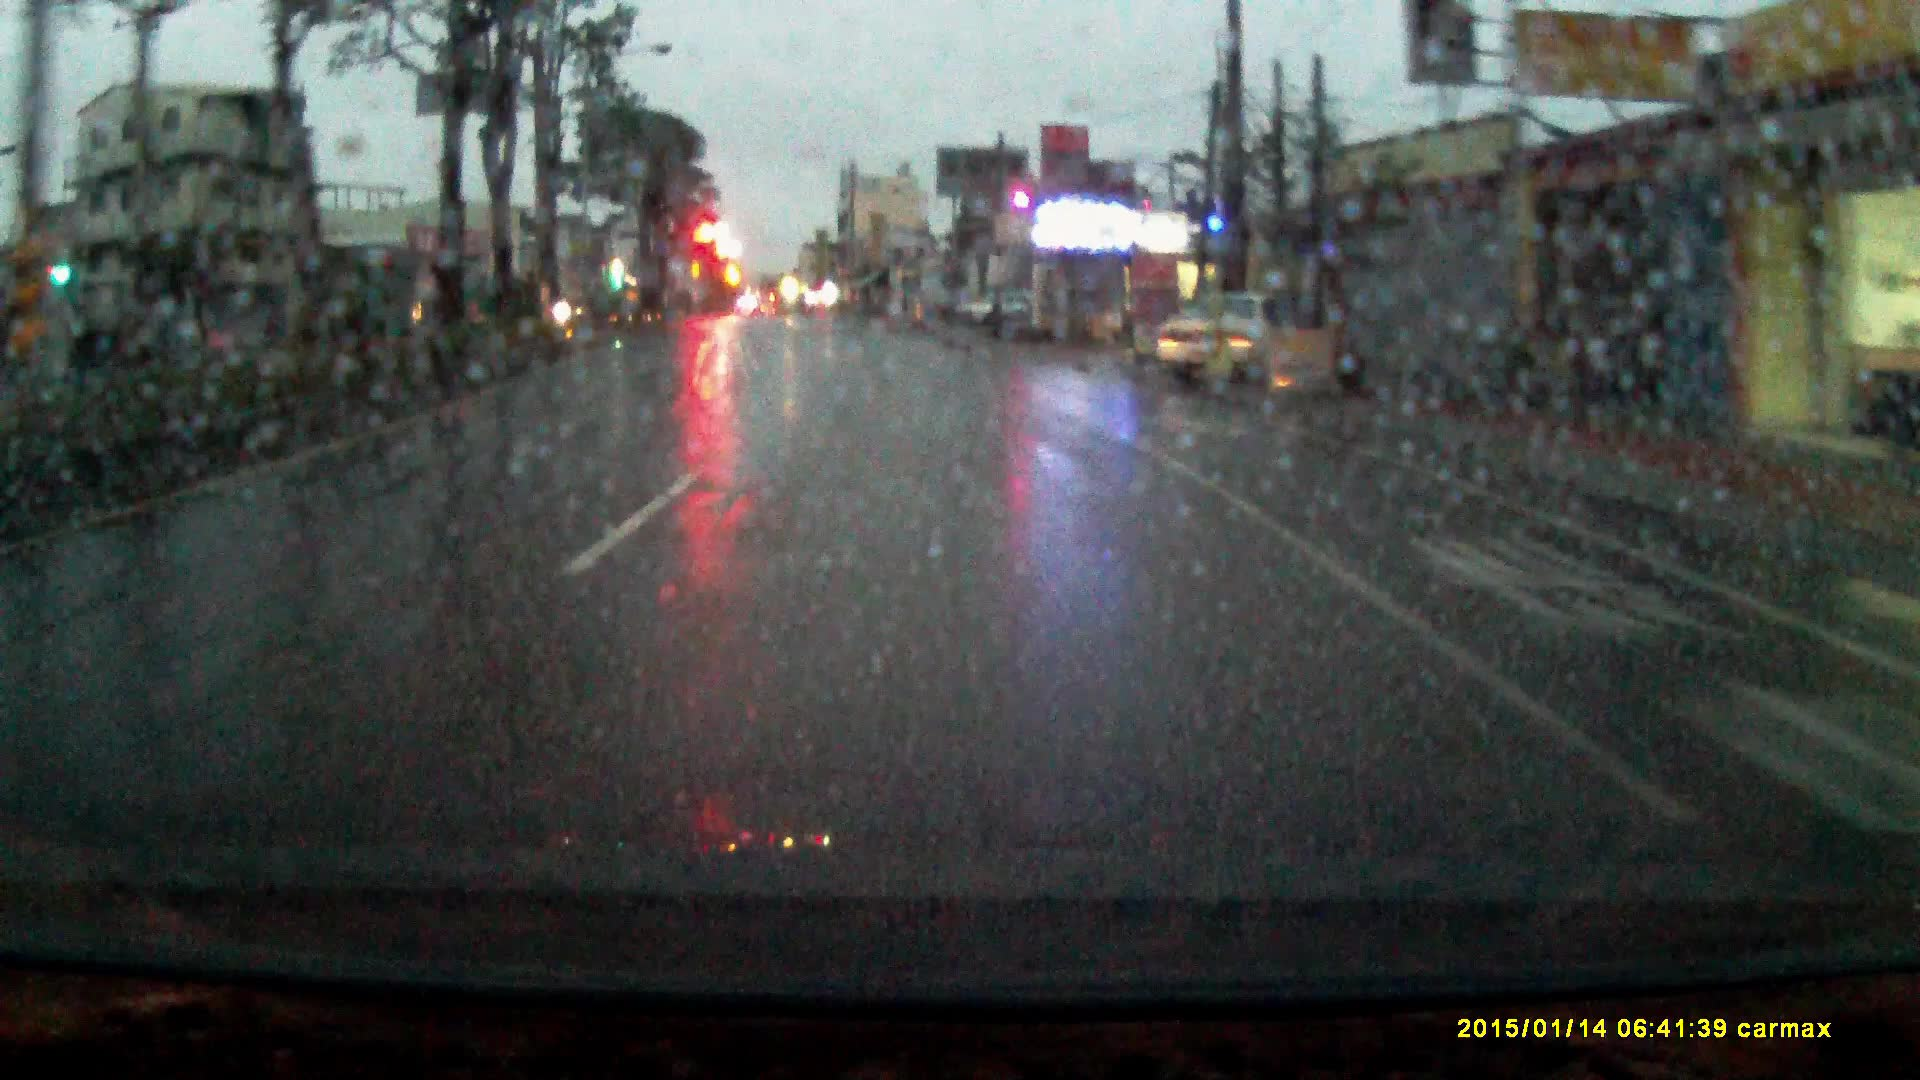vehicle: (1168, 290, 1327, 388), (961, 287, 1040, 324)
